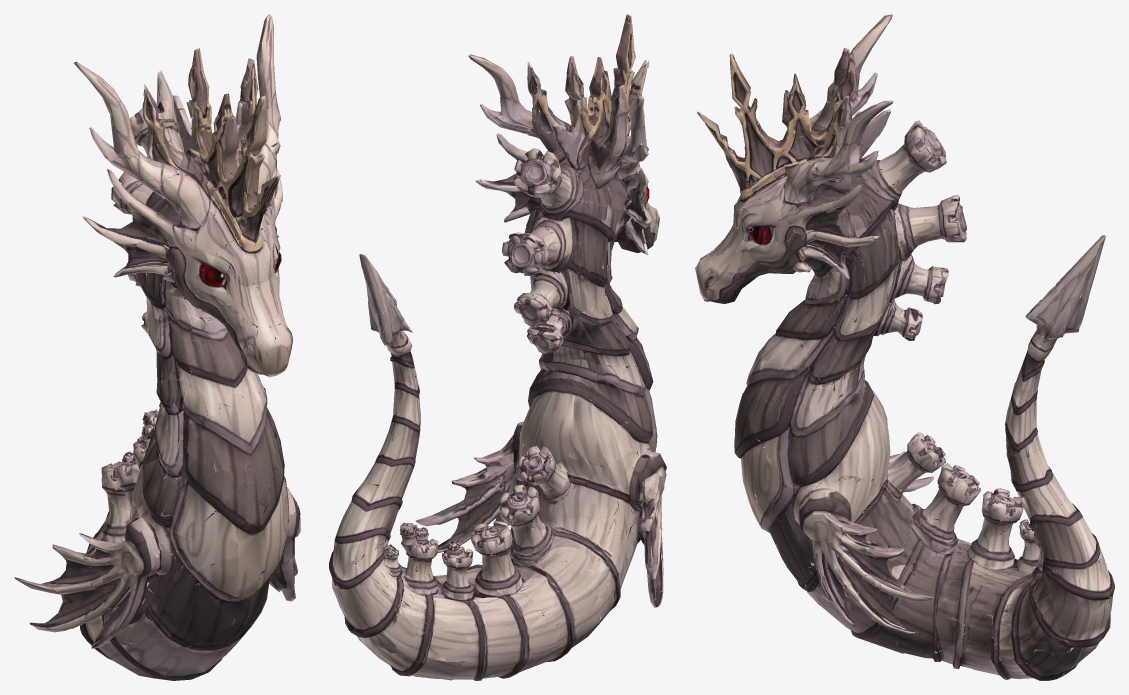
The picture shows the model from 3 angles, left to right: view 1: azimuth 30°, elevation 25°; view 2: azimuth 150°, elevation 25°; view 3: azimuth 270°, elevation 25°; orthographic projection. The views are drawn at different scales.
Visible parts, largest first — view 1: Mesh_0; view 2: Mesh_0; view 3: Mesh_0.
Boxes of the visible parts, x1=… form: Mesh_0: x1=14, y1=14, x2=300, y2=680; Mesh_0: x1=329, y1=14, x2=666, y2=680; Mesh_0: x1=695, y1=14, x2=1114, y2=680.
Bounding box in the file's own units: 0.8895 × 1.9 × 1.22.
1 material, 1 textured.
